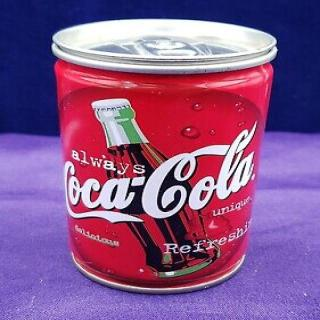Anorganik: (46, 14, 280, 298)
